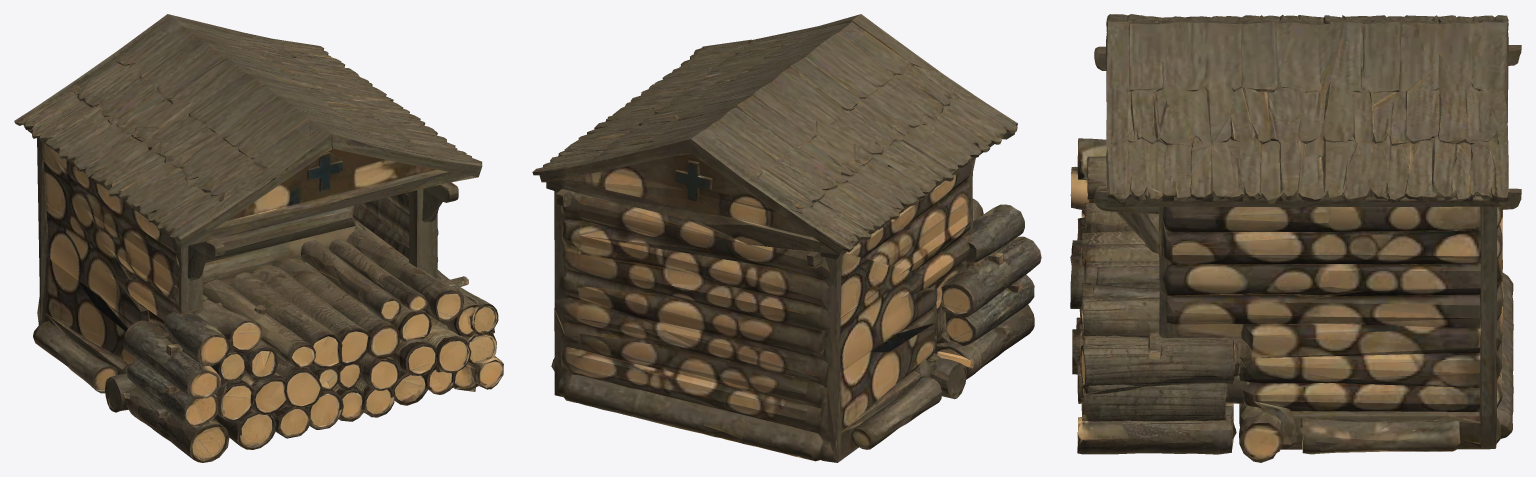
File: firewood_pile.glb
The picture shows the model from 3 angles, left to right: view 1: azimuth 30°, elevation 25°; view 2: azimuth 150°, elevation 25°; view 3: azimuth 270°, elevation 25°; orthographic projection. The views are drawn at different scales.
Size of the model in its own units: 1.9 by 1.62 by 1.9.
1 material, 1 textured.
